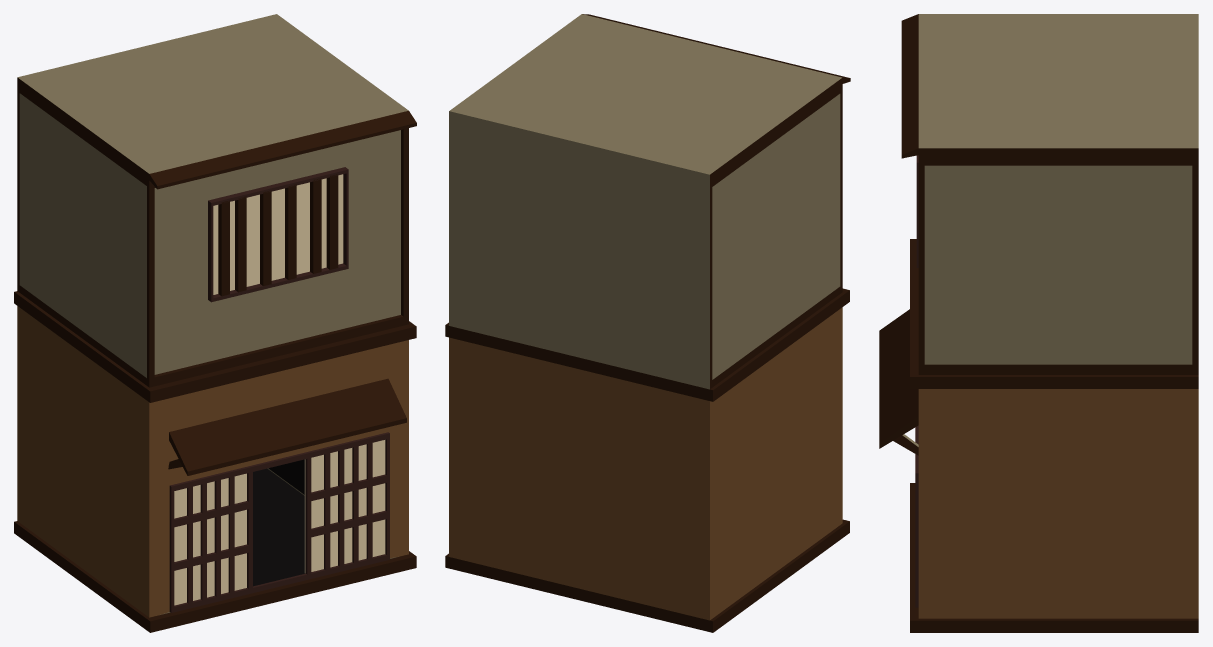
Rendered from shop1.fbx.
3 views of the same model, side by side, from view 1: azimuth 30°, elevation 25°; view 2: azimuth 150°, elevation 25°; view 3: azimuth 270°, elevation 25° (orthographic). The views are drawn at different scales.
Parts seen in each view (by area): view 1: Cube.008; view 2: Cube.008; view 3: Cube.008.
Part boxes in pixels (bbox=[...]): Cube.008: bbox=[14, 14, 416, 632]; Cube.008: bbox=[445, 14, 850, 632]; Cube.008: bbox=[879, 14, 1198, 632].
Bounding box in the file's own units: 737 × 1203 × 721.
